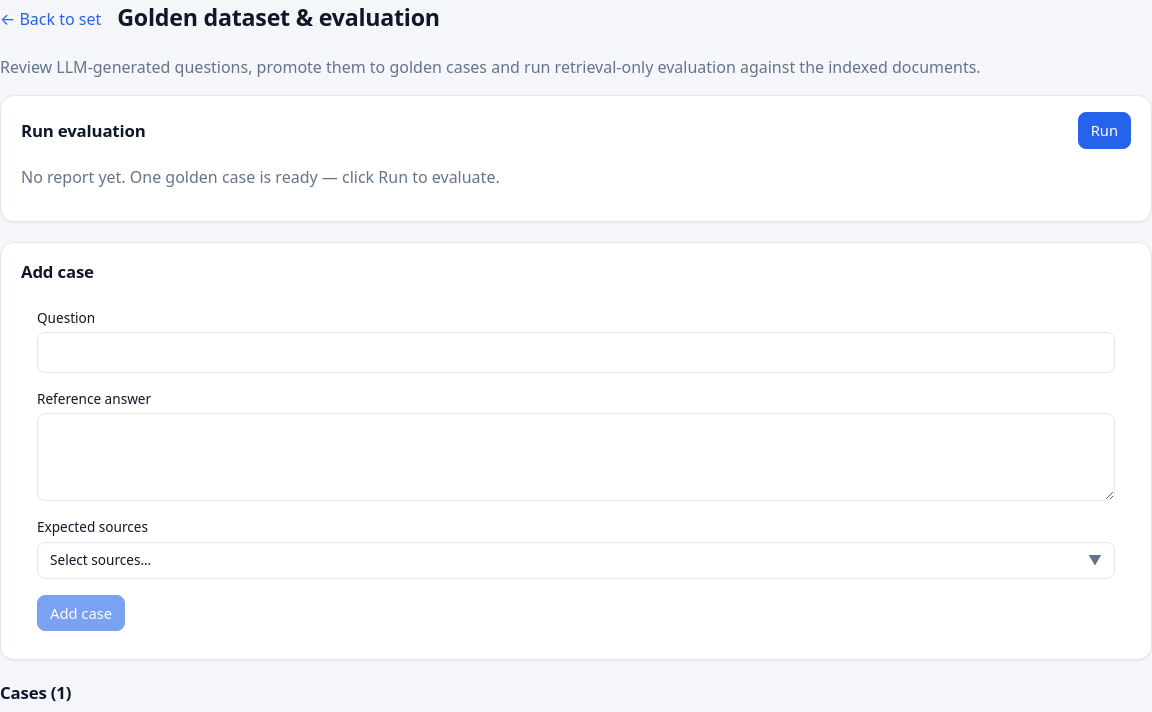
Scenario: GoldenCasesPage › runs the evaluation and shows the report
The width and height of the screenshot is (1152, 712).
Click the button "Run" at (1104, 130), box [1078,112,1131,149]
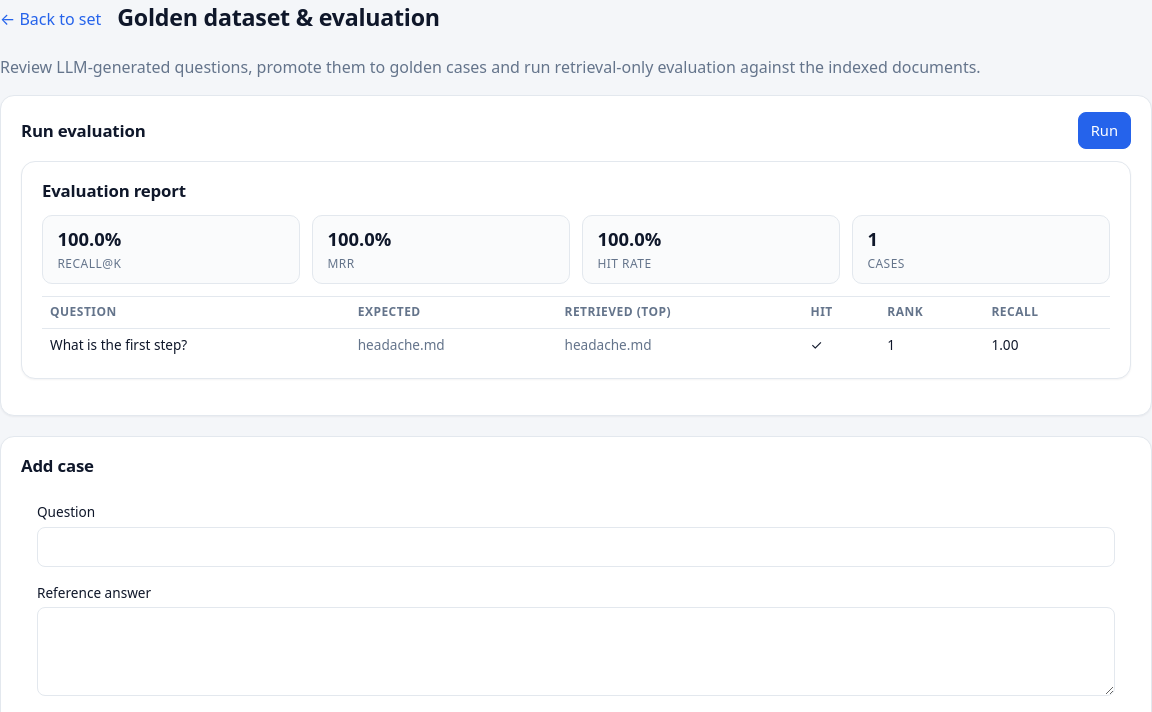
Result: the heading "Evaluation report" is shown at [42,179,186,202]
Result: the text "100.0%" is shown 3 times at [57,226,121,251]; [327,226,391,251]; [597,226,661,251]
Result: the text "Recall@K" is shown at [57,255,121,272]
